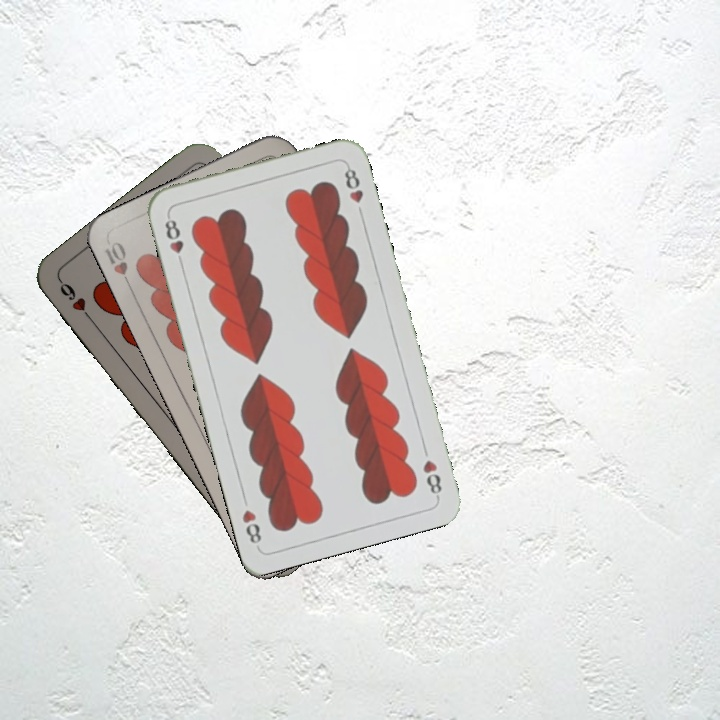H10: (99, 237, 136, 293)
H8: (161, 211, 187, 269), (418, 455, 445, 500)
H9: (55, 276, 98, 326)
